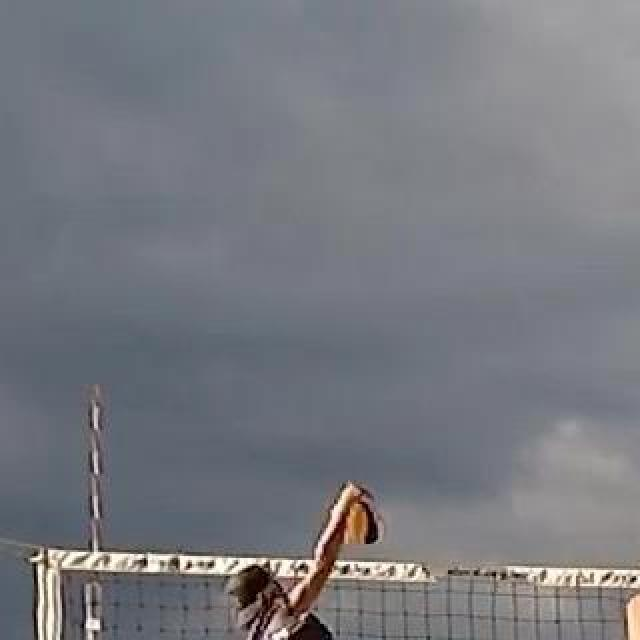volleyball: (332, 490, 384, 548)
